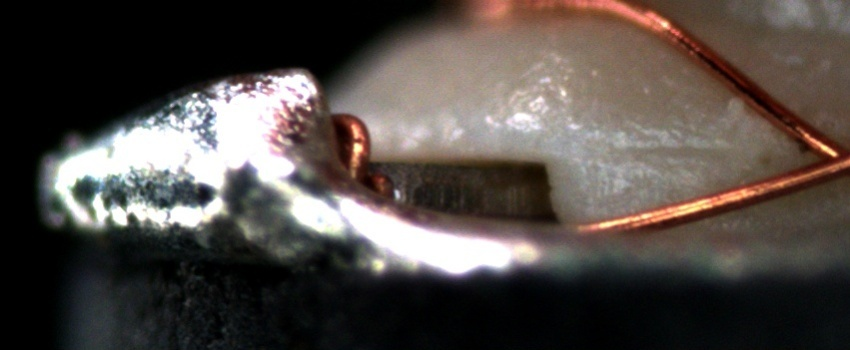CL: (777, 117, 849, 191)
DL: (608, 122, 745, 186)
TE: (327, 102, 392, 205)
